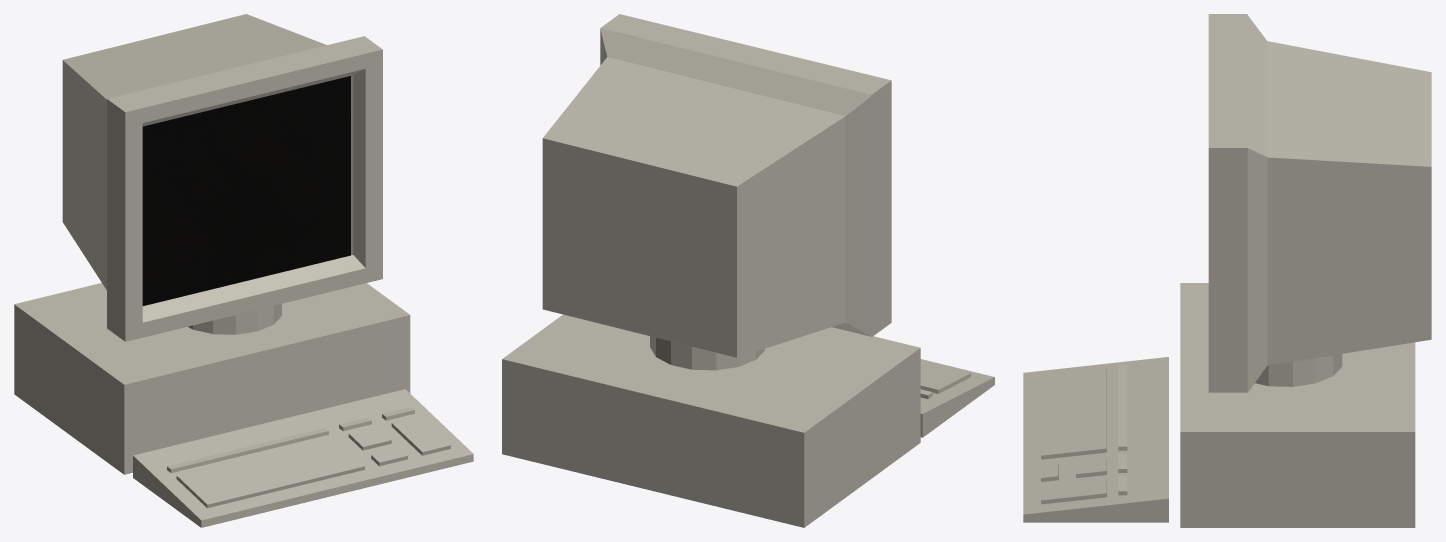
Rendered from computer.glb.
3 renders of one model, left to right at view 1: azimuth 30°, elevation 25°; view 2: azimuth 150°, elevation 25°; view 3: azimuth 270°, elevation 25°, orthographic. The views are drawn at different scales.
Parts seen in each view (by area): view 1: computer, screen, spacebar; view 2: computer, spacebar; view 3: computer, spacebar.
Part boxes in pixels (x1=…): computer: x1=14, y1=14, x2=473, y2=527; screen: x1=142, y1=76, x2=350, y2=305; spacebar: x1=176, y1=437, x2=365, y2=508; computer: x1=502, y1=14, x2=994, y2=527; spacebar: x1=920, y1=361, x2=970, y2=393; computer: x1=1023, y1=14, x2=1431, y2=527; spacebar: x1=1040, y1=366, x2=1106, y2=459.
Size of the model in its own units: 50.69 by 59.14 by 58.77.
Materials: 3 (1 with a texture image).
